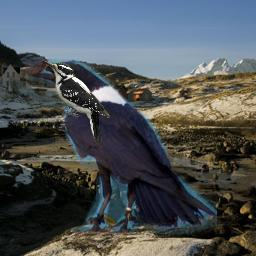Crow: (25, 59, 217, 234)
Woodpecker: (42, 58, 110, 148)
